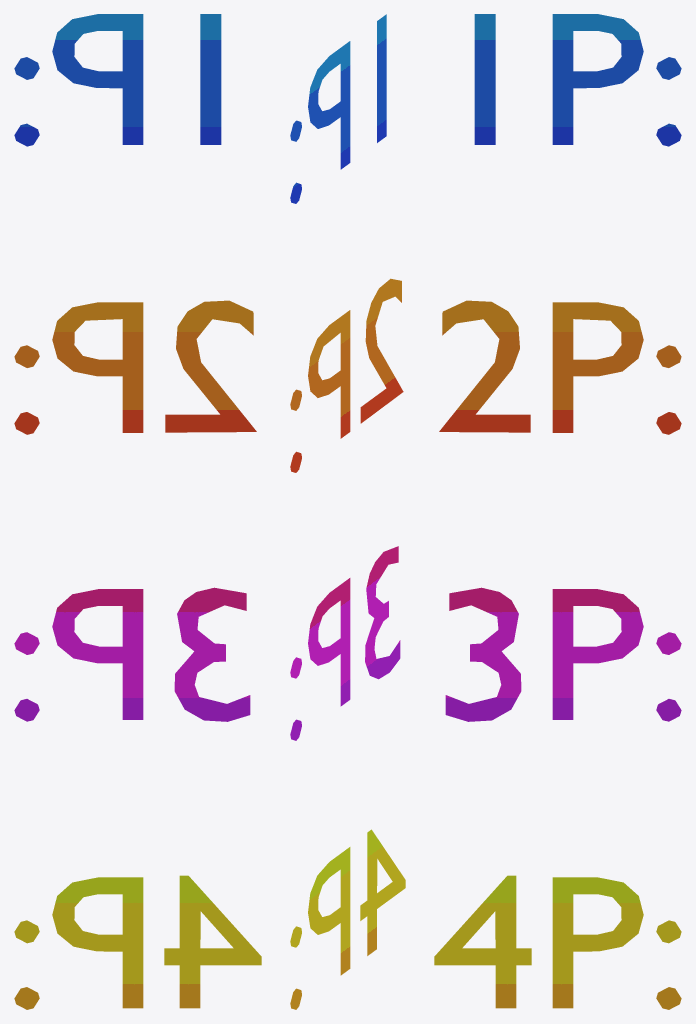
Rendered from text_scores.obj.
The picture shows the model from 3 angles, left to right: view 1: azimuth 90°, elevation 25°; view 2: azimuth 150°, elevation 25°; view 3: azimuth 270°, elevation 25°; orthographic projection. The views are drawn at different scales.
Visible parts, largest first — view 1: text_scores; view 2: text_scores; view 3: text_scores.
Boxes of the visible parts, x1=… form: text_scores: x1=14, y1=14, x2=261, y2=1009; text_scores: x1=290, y1=14, x2=405, y2=1009; text_scores: x1=434, y1=14, x2=681, y2=1009.
Size of the model in its own units: 7.99e-06 by 52.09 by 11.72.
Materials: 1 (1 with a texture image).
